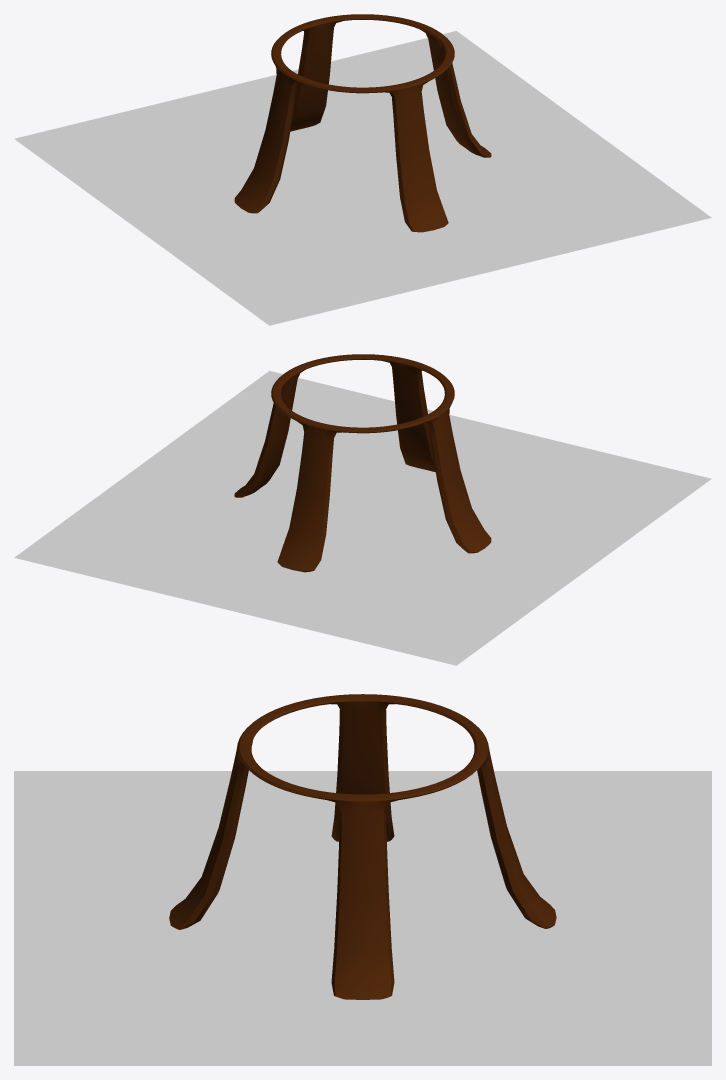
The model's file is tatakan.fbx.
3 renders of one model, top to bottom at view 1: azimuth 30°, elevation 25°; view 2: azimuth 150°, elevation 25°; view 3: azimuth 270°, elevation 25°, orthographic. The views are drawn at different scales.
Visible parts, largest first — view 1: Plane, Plane.001, Circle; view 2: Plane, Plane.001, Circle; view 3: Plane, Plane.001, Circle.
Boxes of the visible parts, x1,y1,x2,y2 form: Plane: [14, 31, 711, 325]; Plane.001: [80, 60, 541, 246]; Circle: [234, 14, 491, 232]; Plane: [14, 371, 711, 665]; Plane.001: [80, 463, 554, 637]; Circle: [234, 354, 491, 572]; Plane: [14, 771, 711, 1065]; Plane.001: [327, 798, 646, 1037]; Circle: [169, 694, 556, 999].
Bounding box in the file's own units: 550 × 152 × 550.
